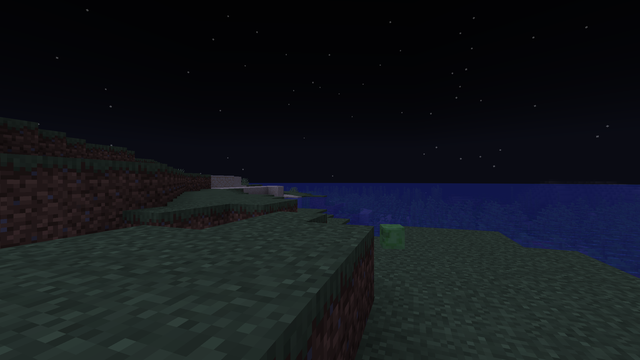slimes: (379, 222, 402, 249)
